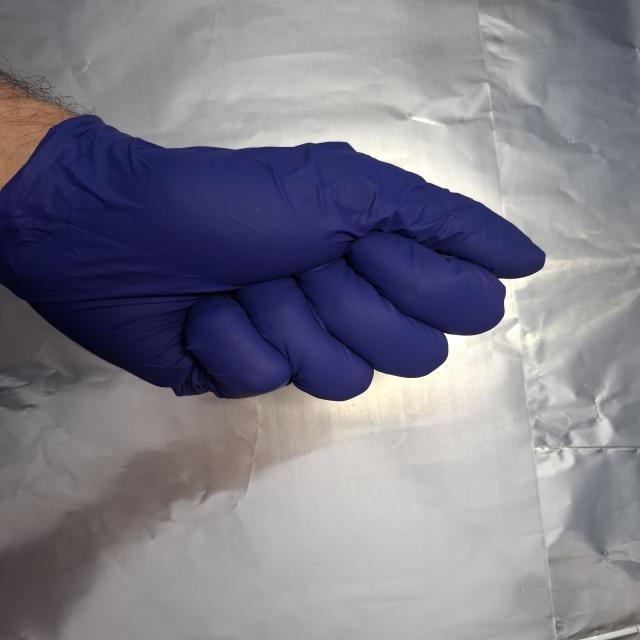glove_on: (3, 113, 551, 404)
